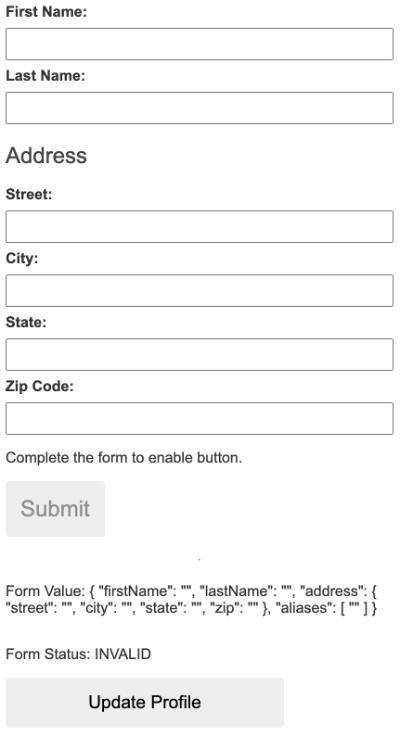button: (5, 677, 287, 728), (3, 480, 106, 537)
input: (6, 403, 395, 436), (7, 212, 396, 245), (7, 339, 396, 371), (7, 93, 395, 125), (8, 29, 395, 61), (7, 277, 392, 307)
label: (1, 450, 244, 466), (5, 145, 92, 167), (1, 4, 96, 21), (5, 68, 88, 84), (4, 378, 76, 393), (5, 188, 54, 201), (5, 317, 48, 330), (6, 253, 43, 268)
